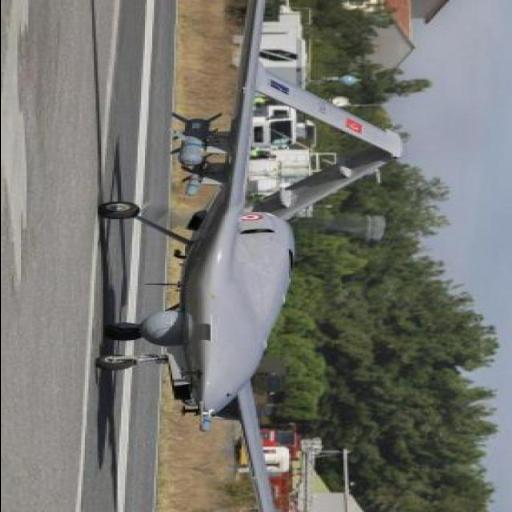uav: (86, 0, 410, 511)
